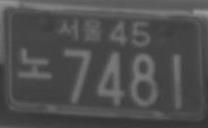1: (165, 52, 191, 110)
4: (94, 49, 126, 108), (107, 18, 130, 47)
5: (130, 19, 152, 49)
7: (61, 47, 93, 105)
8: (129, 51, 160, 109)
노: (16, 46, 53, 80)
서울_O: (56, 16, 104, 44)
